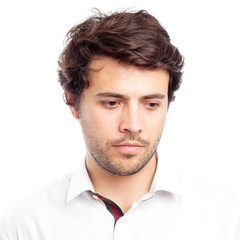young: (63, 20, 181, 178)
